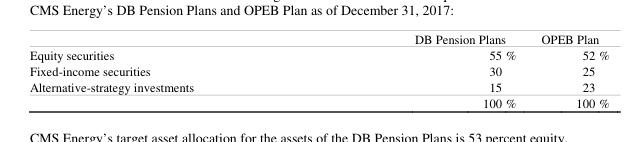table: (28, 29, 608, 110)
table column: (28, 29, 303, 110), (303, 29, 528, 110), (528, 29, 608, 110)
table column header: (28, 29, 608, 45)
table row: (28, 61, 608, 78), (28, 29, 608, 45), (28, 45, 608, 61), (28, 78, 608, 94), (28, 94, 608, 110)
